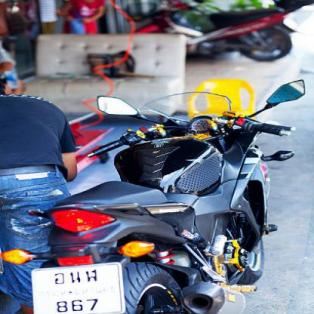Motocicleta: (47, 96, 313, 314)
